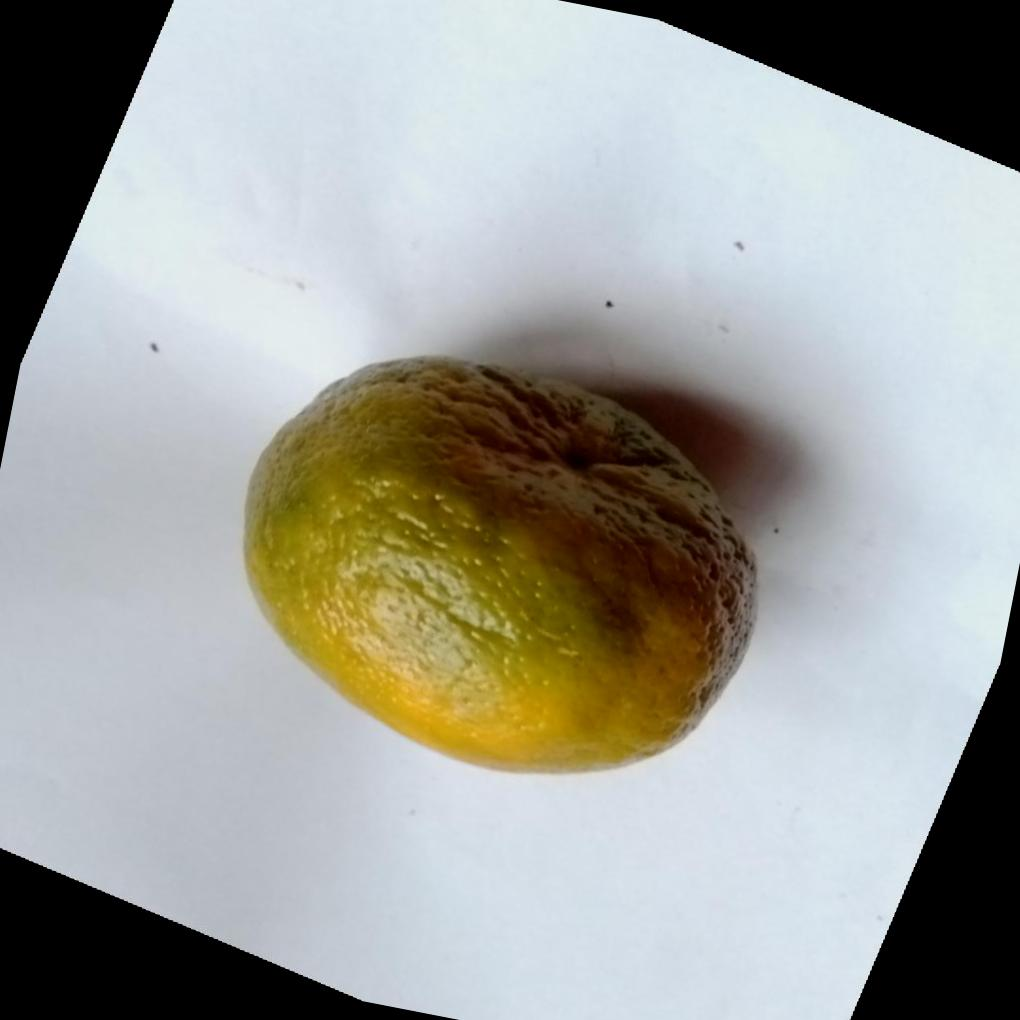FreshGuava: (236, 354, 756, 776)
